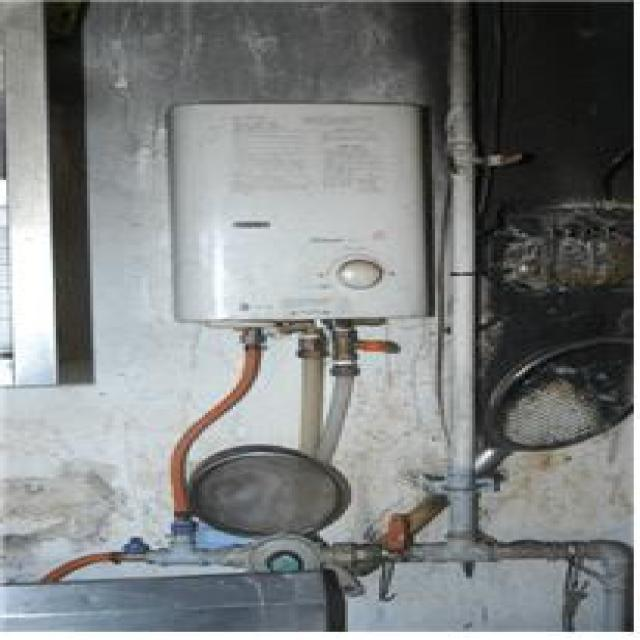Boiler: (110, 57, 498, 320)
